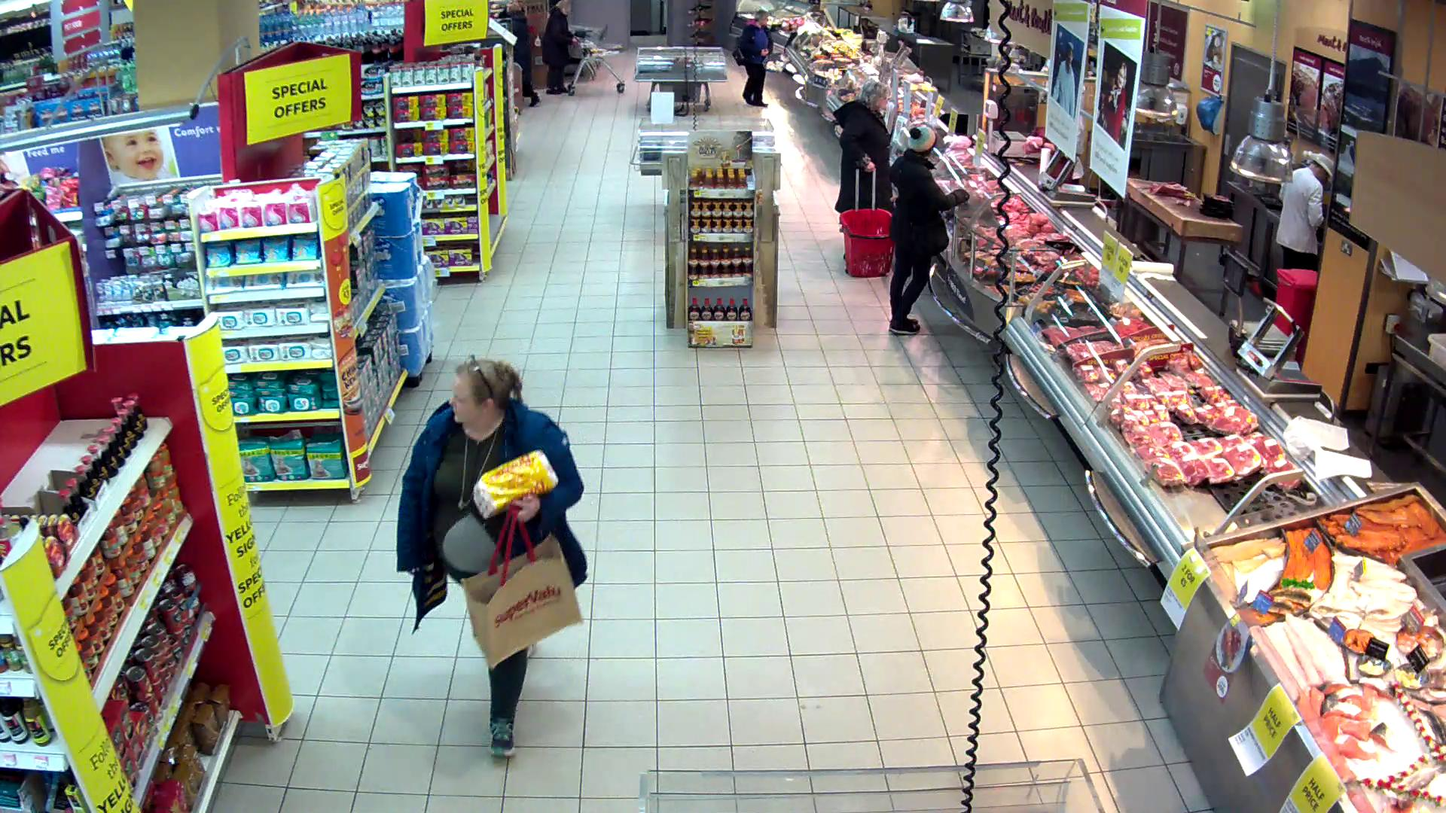carrying-item: (474, 449, 558, 519)
filled-basket: (838, 203, 897, 277)
filled-shopping-bags: (461, 534, 584, 670)
person: (395, 355, 588, 756), (833, 81, 893, 210)
person with carrying item-s- and shopping bag-s-: (395, 354, 588, 756)
person-with-filled-basket-trolly: (833, 81, 897, 277)
